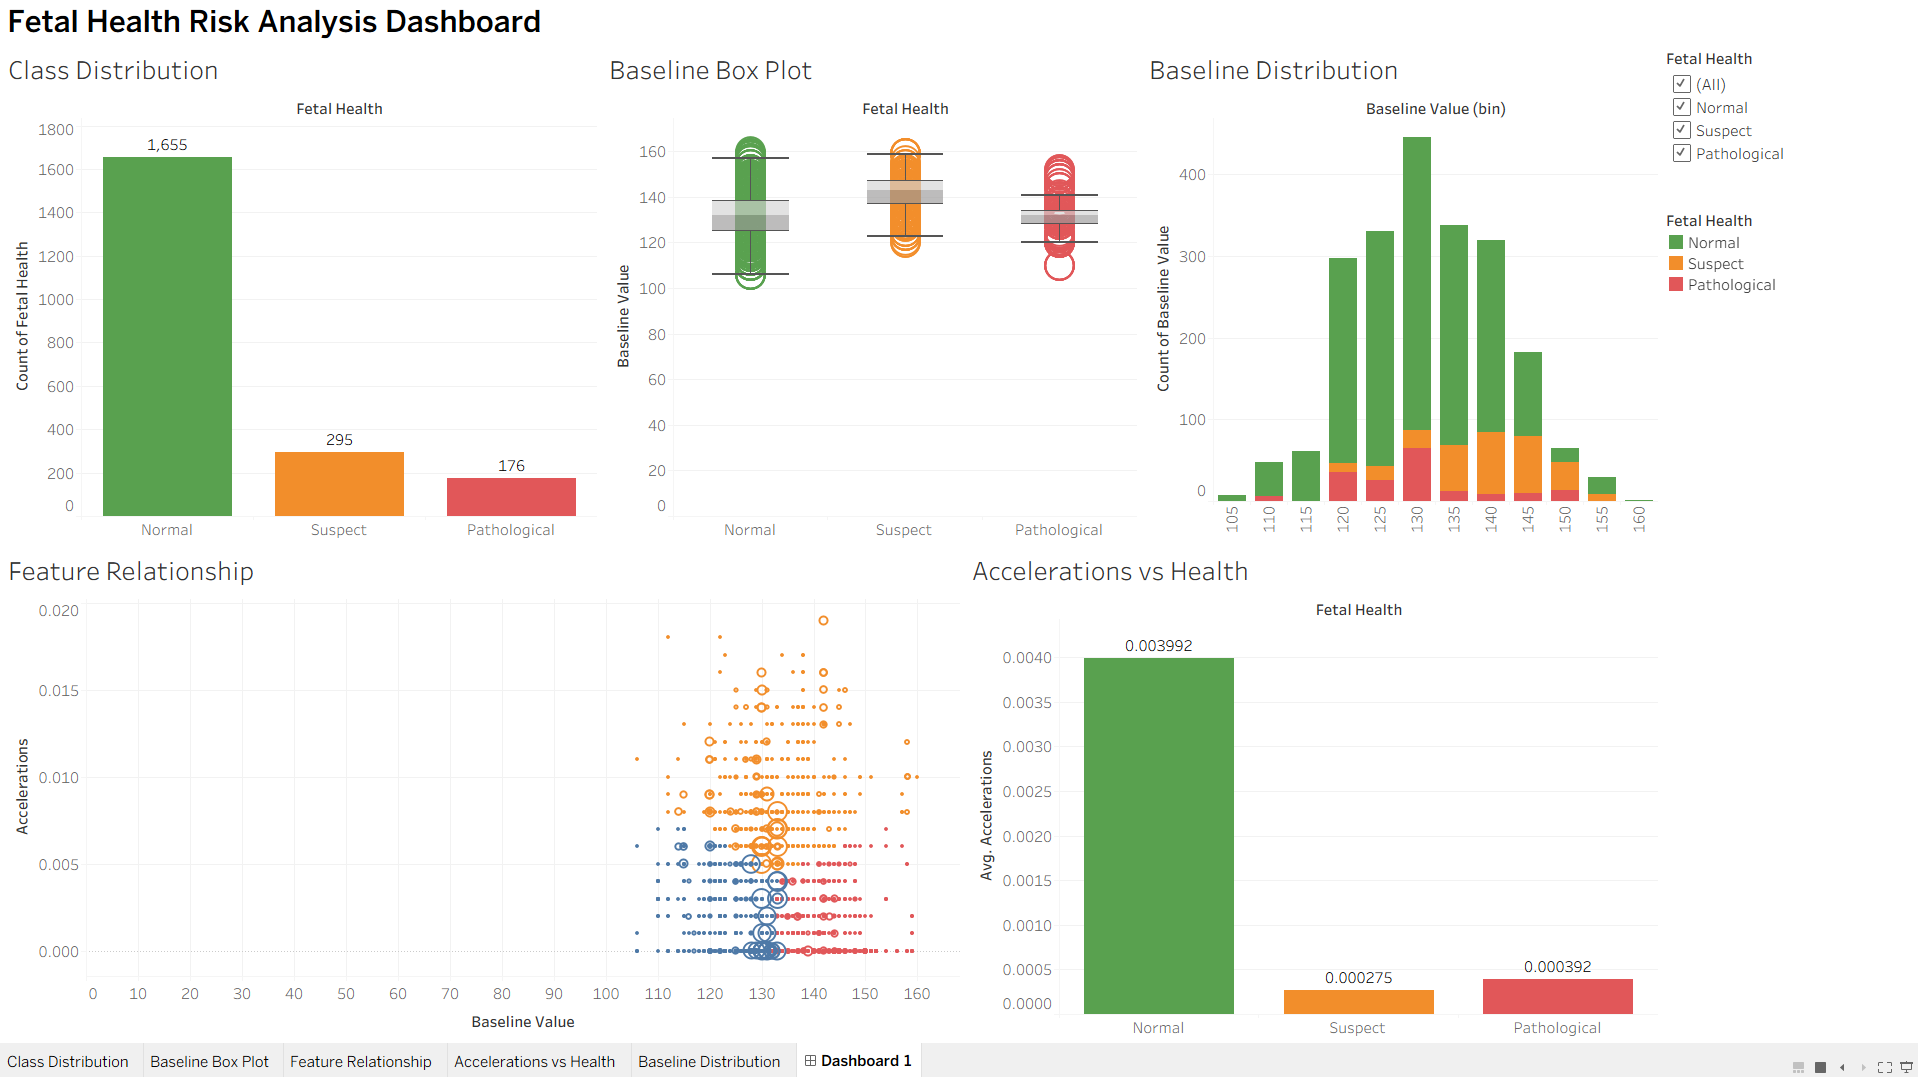

This screenshot's page, from the dashboard's own definition file:
{"tool":"tableau","page":{"name":"Dashboard 1","canvas":[1000,1000],"units":"permille","ordinal":0},"visuals":[{"type":"title","box":[0,0,1000,68.2]},{"type":"worksheet","title":"Class Distribution","mark":"Automatic","rows":["fetal_health"],"cols":["fetal_health"],"box":[0,68.2,305.1,467.7]},{"type":"worksheet","title":"Baseline Box Plot","mark":"Automatic","rows":["baseline value"],"cols":["fetal_health"],"box":[305.1,68.2,274.3,467.7]},{"type":"worksheet","title":"Baseline Distribution","mark":"Automatic","rows":["baseline value"],"cols":["Baseline Value (bin)"],"box":[579.4,68.2,264.9,467.7]},{"type":"filter","title":"Feature Relationship","param":"[federated.160rlov1oom55616ger9v0gtu8a4].[none:fetal_health:ok]","box":[844.3,68.2,155.7,190.4]},{"type":"legend","title":"Class Distribution","param":"[federated.160rlov1oom55616ger9v0gtu8a4].[none:fetal_health:ok]","box":[844.3,258.5,155.7,178.6]},{"type":"worksheet","title":"Feature Relationship","mark":"Automatic","rows":["accelerations"],"cols":["baseline value"],"box":[0,535.8,489.5,464.2]},{"type":"worksheet","title":"Accelerations vs Health","mark":"Automatic","rows":["accelerations"],"cols":["fetal_health"],"box":[489.5,535.8,354.8,464.2]}]}

Visuals, with their boxes on the dashboard's canvas, which has no fixed pixel size, in thousandths of its width and height (x1, y1, x2, y2). These are canvas units, not pixel positions in the 1918x1077 screenshot, which may show the page scaled, cropped or inside an application window:
title: <bbox>0, 0, 1000, 68</bbox>
"Class Distribution" worksheet: <bbox>0, 68, 305, 536</bbox>
"Baseline Box Plot" worksheet: <bbox>305, 68, 579, 536</bbox>
"Baseline Distribution" worksheet: <bbox>579, 68, 844, 536</bbox>
"Feature Relationship" filter: <bbox>844, 68, 1000, 259</bbox>
"Class Distribution" legend: <bbox>844, 258, 1000, 437</bbox>
"Feature Relationship" worksheet: <bbox>0, 536, 490, 1000</bbox>
"Accelerations vs Health" worksheet: <bbox>490, 536, 844, 1000</bbox>
